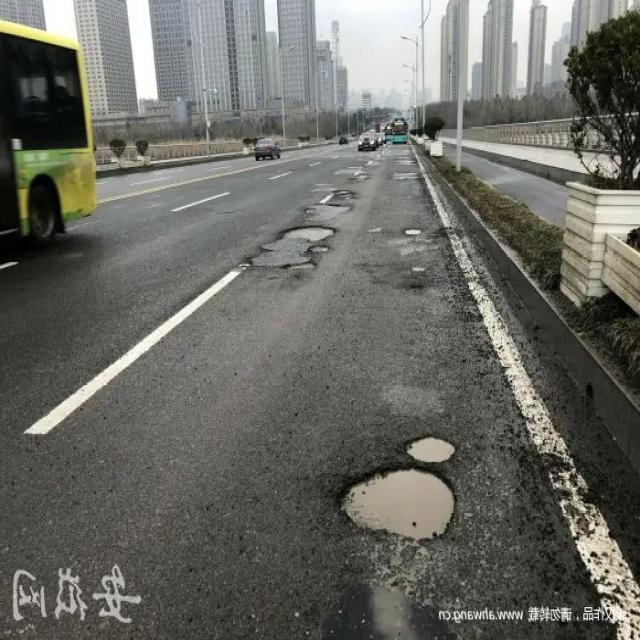pothole: (337, 467, 463, 545), (245, 221, 338, 276), (400, 434, 465, 461), (323, 181, 357, 206), (401, 221, 433, 241)
